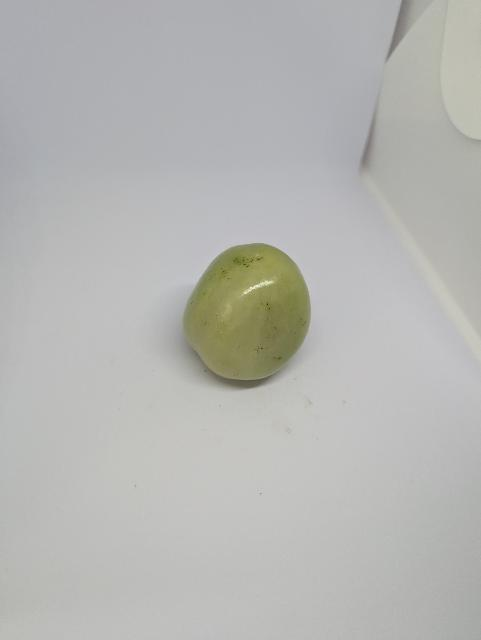green: (158, 212, 340, 412)
